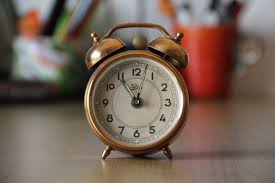alarm_clock: (81, 20, 189, 158)
